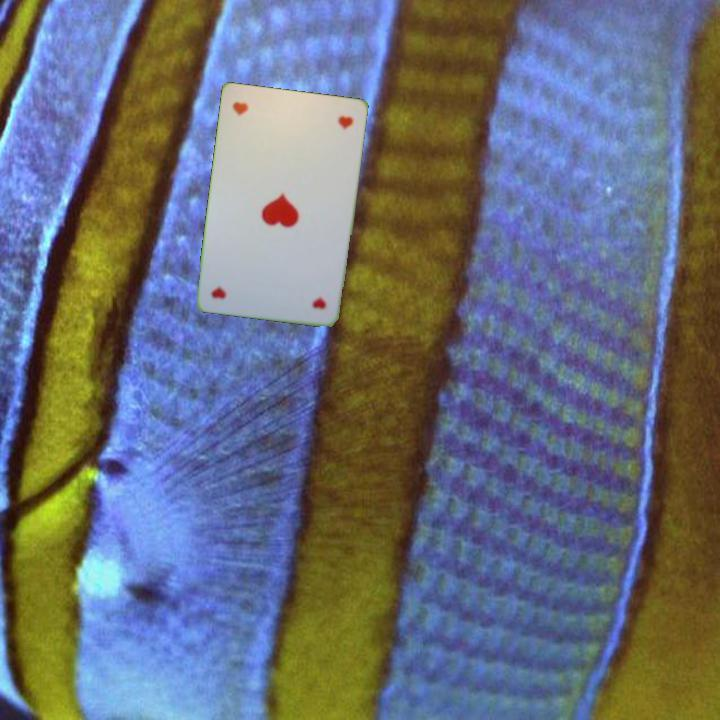h_a.png: (265, 252, 338, 318), (224, 93, 297, 158)
